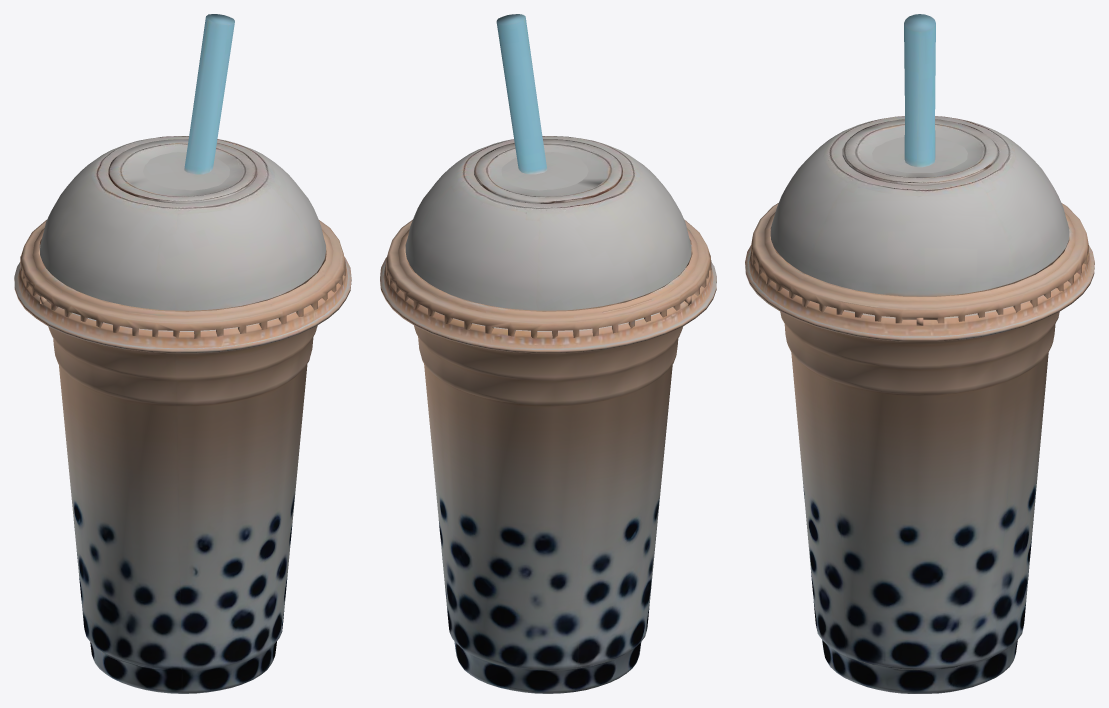
File: milk-tea.glb
3 renders of one model, left to right at view 1: azimuth 30°, elevation 25°; view 2: azimuth 150°, elevation 25°; view 3: azimuth 270°, elevation 25°, orthographic. The views are drawn at different scales.
Parts seen in each view (by area): view 1: texture_pbr_v128; view 2: texture_pbr_v128; view 3: texture_pbr_v128.
Boxes of the visible parts, x1=… form: texture_pbr_v128: x1=14, y1=14, x2=351, y2=693; texture_pbr_v128: x1=380, y1=14, x2=716, y2=693; texture_pbr_v128: x1=745, y1=14, x2=1094, y2=693.
Bounding box in the file's own units: 0.5679 × 1.16 × 0.5634.
Materials: 1 (1 with a texture image).
